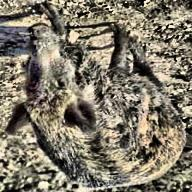boar: (11, 22, 178, 188)
